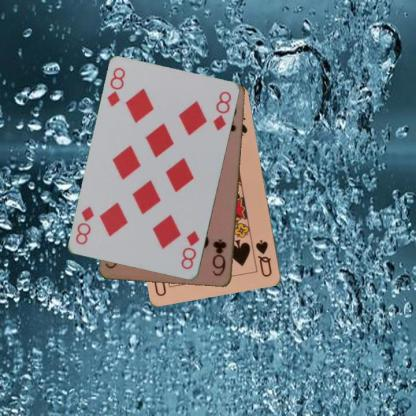6c: (210, 237, 228, 278)
8d: (104, 65, 127, 108), (179, 228, 201, 271)
Qs: (253, 238, 273, 278)
